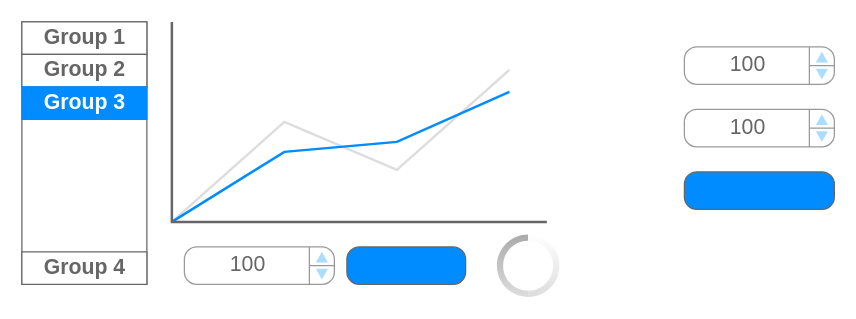
Some shapes in this 856 by 319 pixel diagram are drawn without their labels. Each missing label, with the box of its shape:
refresh: (346, 246, 466, 284)
Set allerts: (683, 177, 804, 193)
